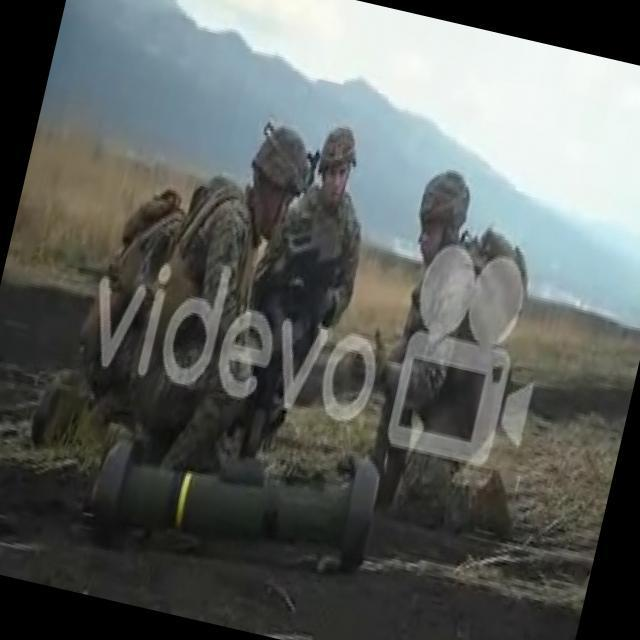rocket: (84, 398, 392, 602)
